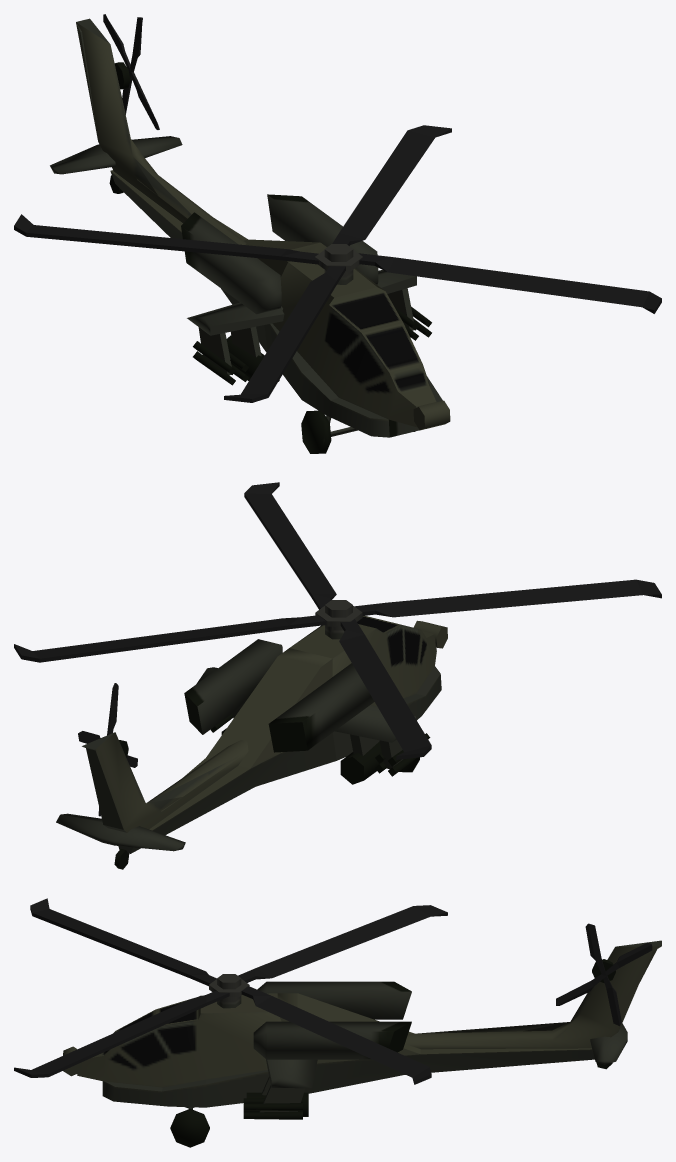
File: apache.DAE
The picture shows the model from 3 angles, top to bottom: view 1: azimuth 30°, elevation 25°; view 2: azimuth 150°, elevation 25°; view 3: azimuth 270°, elevation 25°; orthographic projection. The views are drawn at different scales.
Visible parts, largest first — view 1: ov3d_Apache; view 2: ov3d_Apache; view 3: ov3d_Apache.
Part boxes in pixels (bbox=[...]): ov3d_Apache: bbox=[14, 14, 661, 453]; ov3d_Apache: bbox=[14, 482, 661, 869]; ov3d_Apache: bbox=[14, 898, 661, 1147].
Bounding box in the file's own units: 2332 × 1246 × 3482.
Materials: 1 (1 with a texture image).
